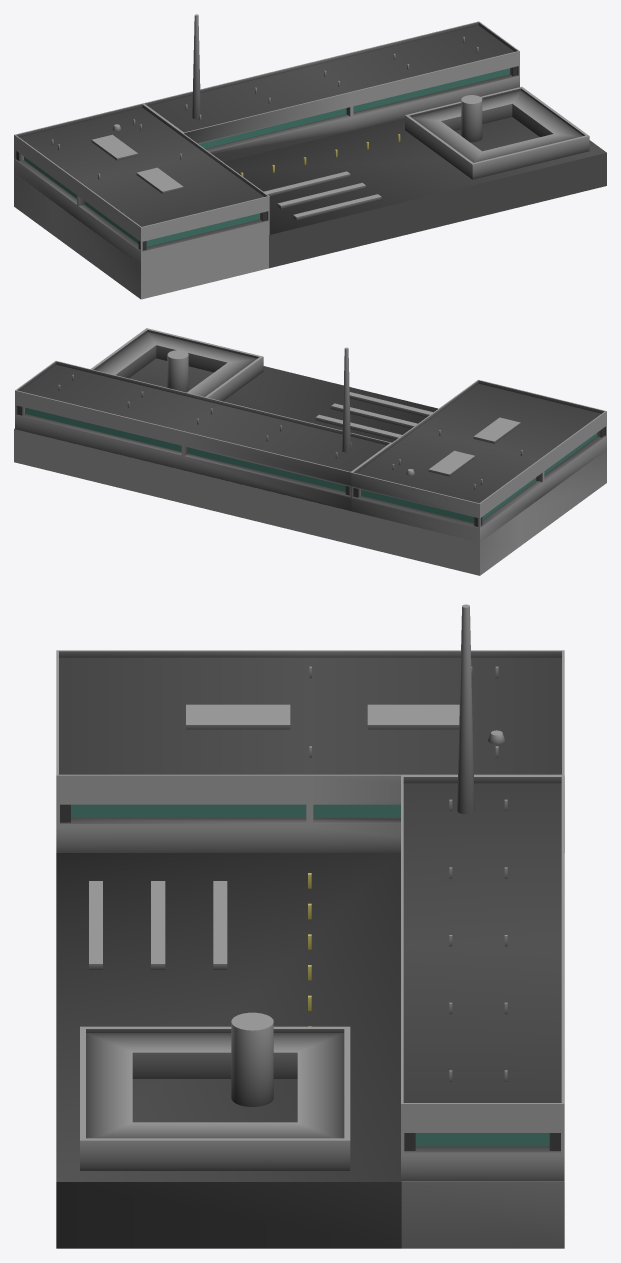
The model's file is Industrial_IndustrialBuilding_alt06.glb.
The picture shows the model from 3 angles, top to bottom: view 1: azimuth 30°, elevation 25°; view 2: azimuth 150°, elevation 25°; view 3: azimuth 270°, elevation 25°; orthographic projection. The views are drawn at different scales.
Visible parts, largest first — view 1: base.059, windowRefl.040; view 2: base.059, windowRefl.040; view 3: base.059, windowRefl.040.
Part boxes in pixels (x1=…): base.059: x1=14, y1=14, x2=606, y2=299; windowRefl.040: x1=24, y1=68, x2=509, y2=246; base.059: x1=14, y1=328, x2=606, y2=575; windowRefl.040: x1=25, y1=407, x2=596, y2=523; base.059: x1=56, y1=604, x2=564, y2=1248; windowRefl.040: x1=71, y1=804, x2=549, y2=1146.
Bounding box in the file's own units: 49.07 × 17.2 × 23.18.
